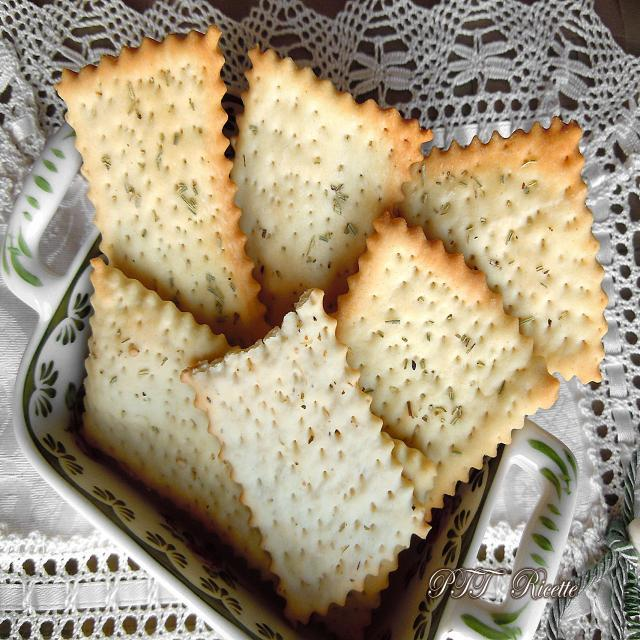Cracker: (51, 26, 273, 420), (194, 298, 426, 617), (334, 204, 562, 526)
